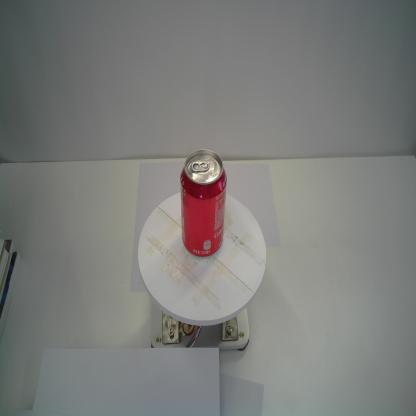Drink: (179, 147, 229, 262)
